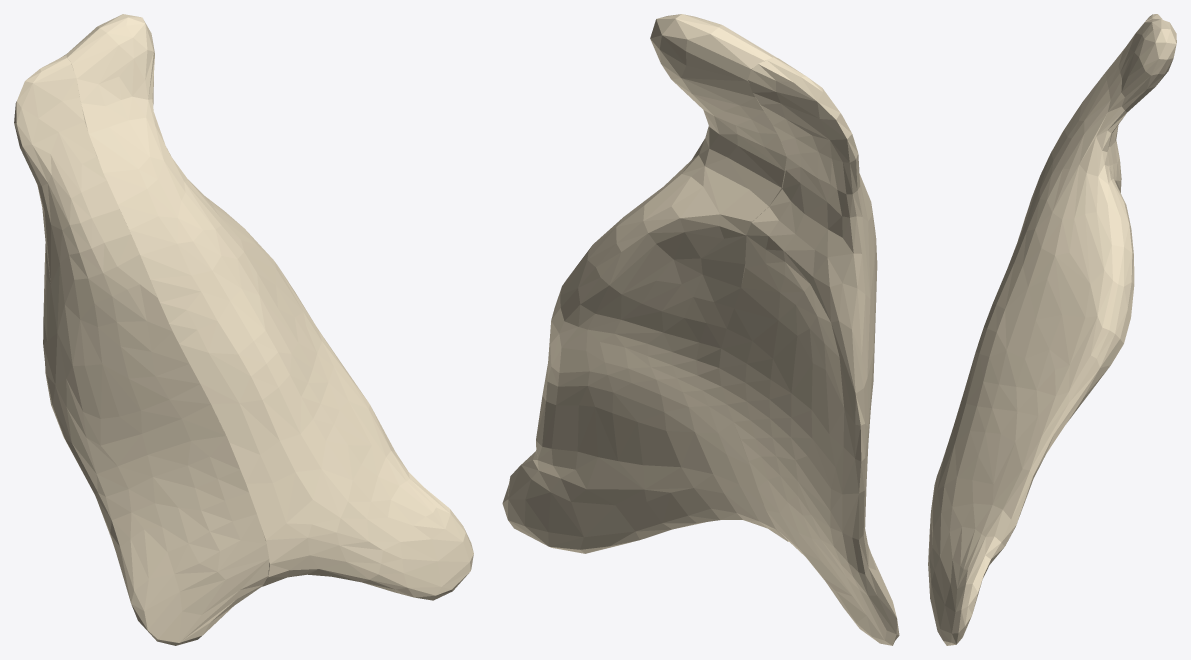
The model's file is VH_F_Thymus_0.4.glb.
The picture shows the model from 3 angles, left to right: view 1: azimuth 30°, elevation 25°; view 2: azimuth 150°, elevation 25°; view 3: azimuth 270°, elevation 25°; orthographic projection. The views are drawn at different scales.
Visible parts, largest first — view 1: VH_F_thymus_lobe_L, VH_F_thymus_lobe_R; view 2: VH_F_thymus_lobe_L, VH_F_thymus_lobe_R; view 3: VH_F_thymus_lobe_L, VH_F_thymus_lobe_R.
Boxes of the visible parts, left/top/right/bottom form: VH_F_thymus_lobe_L: left=66, top=14, right=473, bottom=600; VH_F_thymus_lobe_R: left=14, top=54, right=269, bottom=645; VH_F_thymus_lobe_L: left=502, top=14, right=788, bottom=553; VH_F_thymus_lobe_R: left=719, top=57, right=899, bottom=645; VH_F_thymus_lobe_L: left=928, top=18, right=1176, bottom=645; VH_F_thymus_lobe_R: left=1024, top=14, right=1162, bottom=220.
Size of the model in its own units: 0.086 by 0.1239 by 0.0538.
